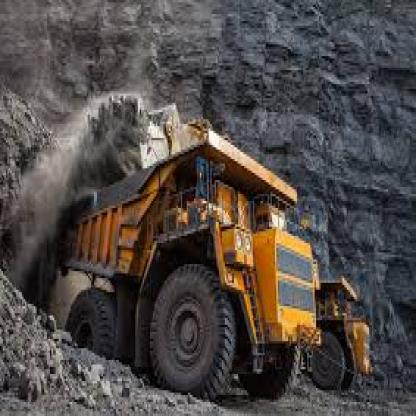dump_truck: (63, 126, 350, 414)
